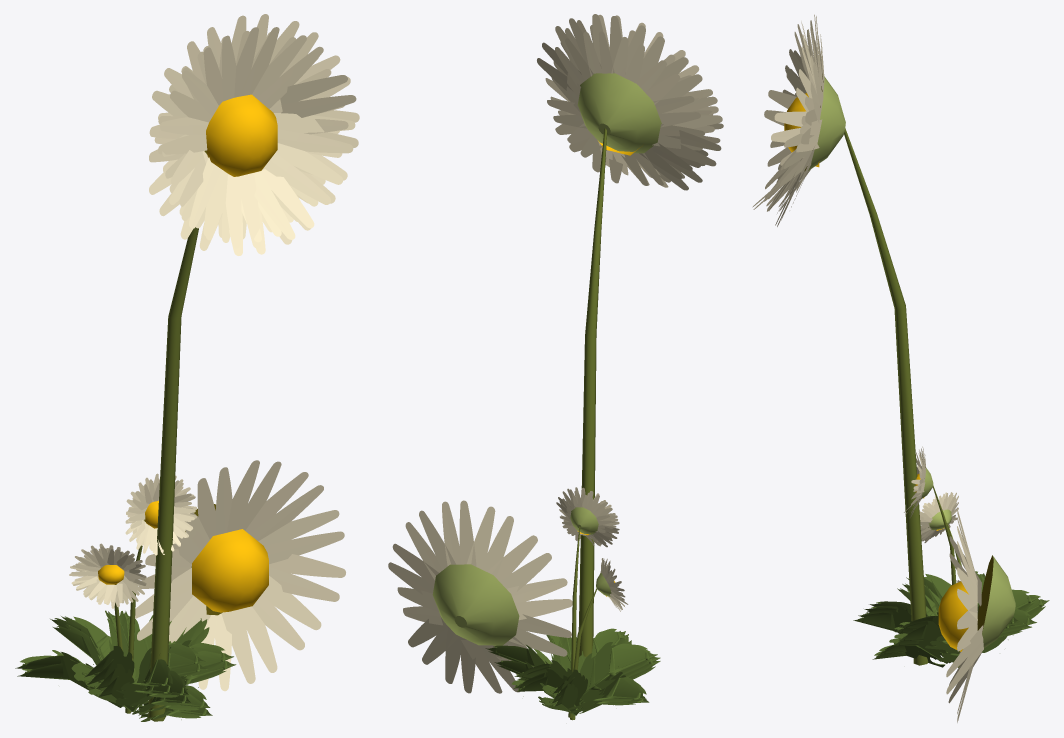
The model's file is dand.glb.
The picture shows the model from 3 angles, left to right: view 1: azimuth 30°, elevation 25°; view 2: azimuth 150°, elevation 25°; view 3: azimuth 270°, elevation 25°; orthographic projection. The views are drawn at different scales.
Visible parts, largest first — view 1: Bamboo Shoot, SimpleDome01.001, SimpleDome01, G-.116 (×2), G-.120 (×2), G-.122 (×2), petal.005 (×2), G-.121 (×2), petal.011 (×2), petal.009 (×2), petal.010 (×2), G-.118 (×2) (+25 smaller); view 2: Bamboo Shoot, Plant_sunflower.001, Plant_sunflower, G-Object.1473, G-Object.1475, petal.004, G-.115, G-.119, petal.006, G-.112, petal.001, petal.008 (+15 smaller); view 3: Bamboo Shoot, Plant_sunflower.001, Plant_sunflower, SimpleDome01.001, G-.132, G-Object.1471.
Part boxes in pixels (x1=…): Bamboo Shoot: x1=148, y1=227, x2=198, y2=721; SimpleDome01.001: x1=192, y1=529, x2=268, y2=612; SimpleDome01: x1=206, y1=94, x2=277, y2=176; G-.116 (×2): x1=221, y1=152, x2=330, y2=683; G-.120 (×2): x1=256, y1=46, x2=344, y2=564; G-.122 (×2): x1=252, y1=129, x2=353, y2=650; petal.005 (×2): x1=241, y1=143, x2=342, y2=672; G-.121 (×2): x1=269, y1=95, x2=356, y2=601; petal.011 (×2): x1=262, y1=113, x2=355, y2=630; petal.009 (×2): x1=252, y1=35, x2=339, y2=545; petal.010 (×2): x1=269, y1=75, x2=347, y2=577; G-.118 (×2): x1=240, y1=27, x2=323, y2=541; Bamboo Shoot: x1=578, y1=128, x2=607, y2=656; Plant_sunflower.001: x1=432, y1=564, x2=519, y2=645; Plant_sunflower: x1=577, y1=73, x2=661, y2=153; G-Object.1473: x1=580, y1=642, x2=657, y2=701; G-Object.1475: x1=567, y1=672, x2=646, y2=710; petal.004: x1=480, y1=516, x2=513, y2=577; G-.115: x1=467, y1=506, x2=495, y2=568; G-.119: x1=487, y1=535, x2=537, y2=581; petal.006: x1=459, y1=500, x2=476, y2=566; G-.112: x1=507, y1=578, x2=567, y2=602; petal.001: x1=514, y1=599, x2=572, y2=620; petal.008: x1=500, y1=553, x2=551, y2=591; Bamboo Shoot: x1=844, y1=128, x2=928, y2=665; Plant_sunflower.001: x1=977, y1=555, x2=1015, y2=648; Plant_sunflower: x1=804, y1=74, x2=845, y2=171; SimpleDome01.001: x1=938, y1=581, x2=968, y2=651; G-.132: x1=853, y1=610, x2=935, y2=659; G-Object.1471: x1=894, y1=621, x2=947, y2=653.
Bounding box in the file's own units: 0.5351 × 1.21 × 0.499.
